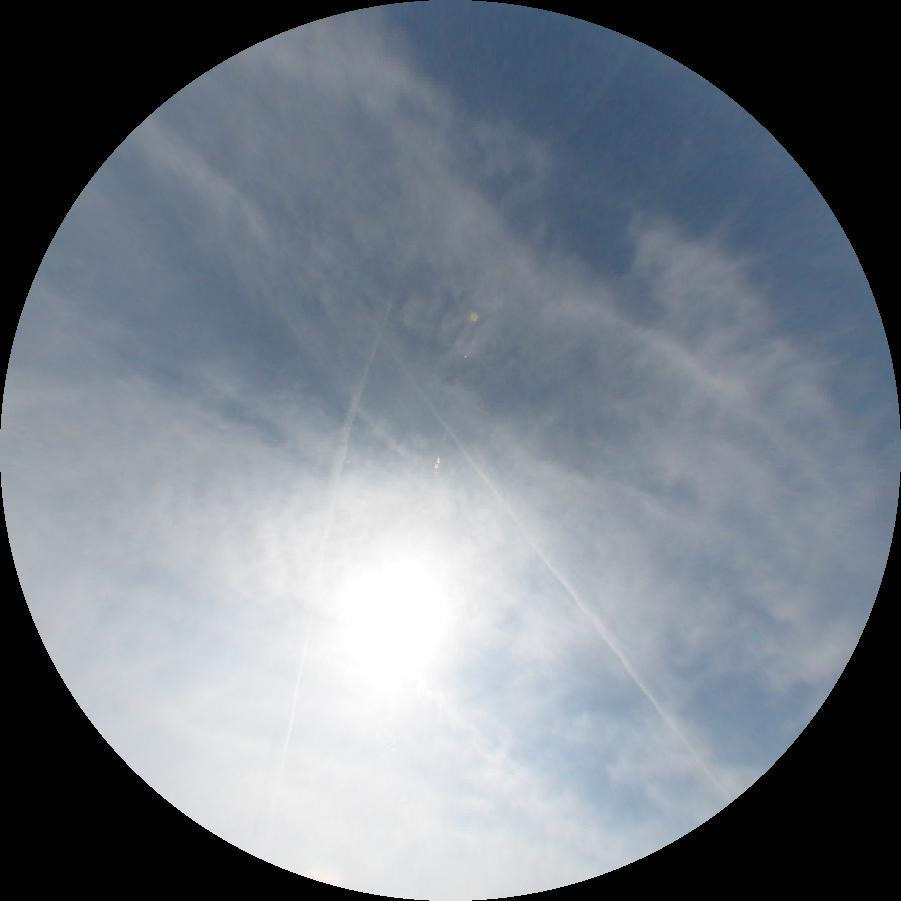contrail old: (370, 322, 735, 803), (261, 294, 396, 785)
sun: (320, 547, 469, 700)
